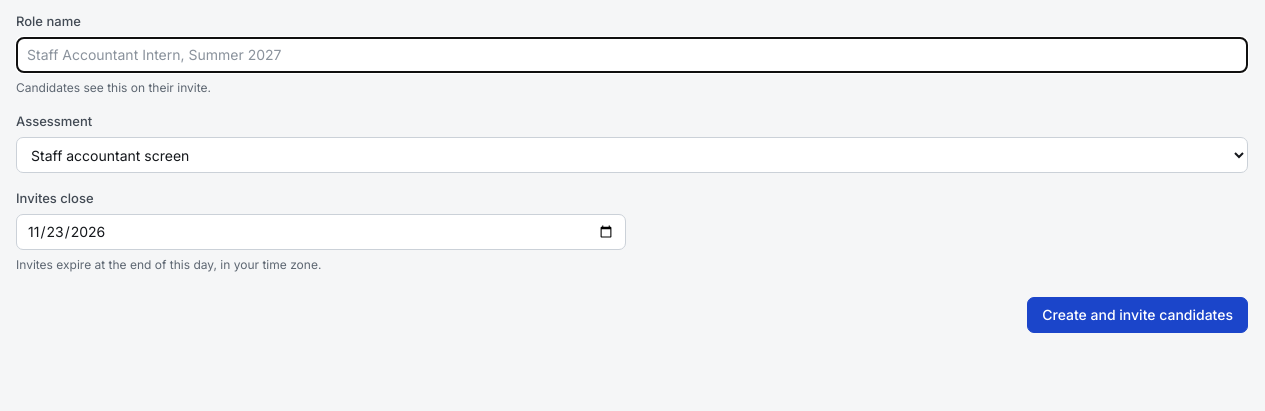
Test: CreateJobForm › shows the result in place when there's nowhere to go
Step 1. Type "Audit intern" into the field labelled "Role name" → (632, 55), box [16,37,1248,73]
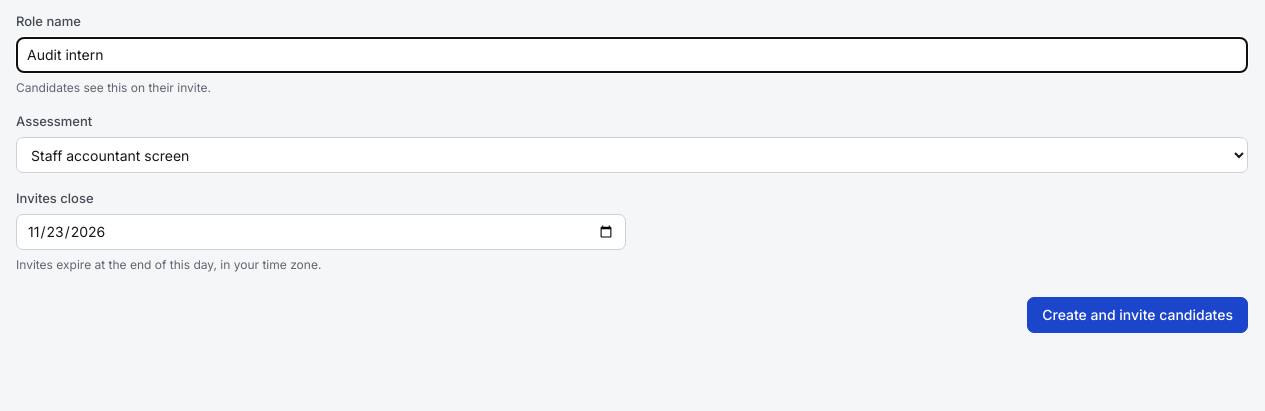
Step 2. Click the button "Create and invite candidates" → (1138, 315), box [1027,297,1248,333]
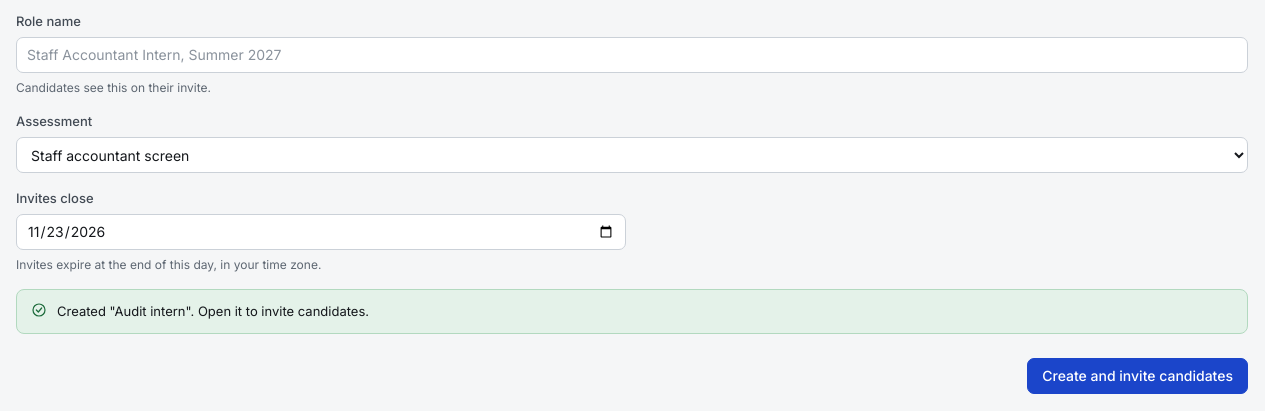
Expected: the text "Created \"Audit intern\". Open it to invite candidates." is shown, [57,302,369,321]
